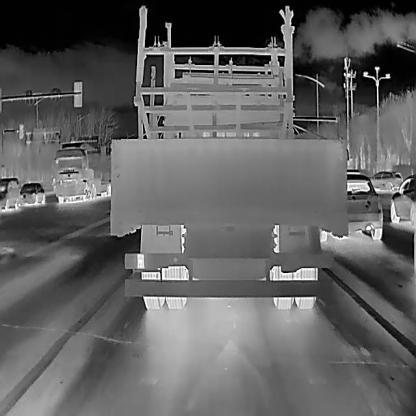car: (107, 63, 348, 309), (319, 172, 383, 242), (53, 140, 110, 202), (390, 173, 416, 228), (366, 169, 404, 196), (0, 176, 20, 210), (19, 182, 45, 206)
